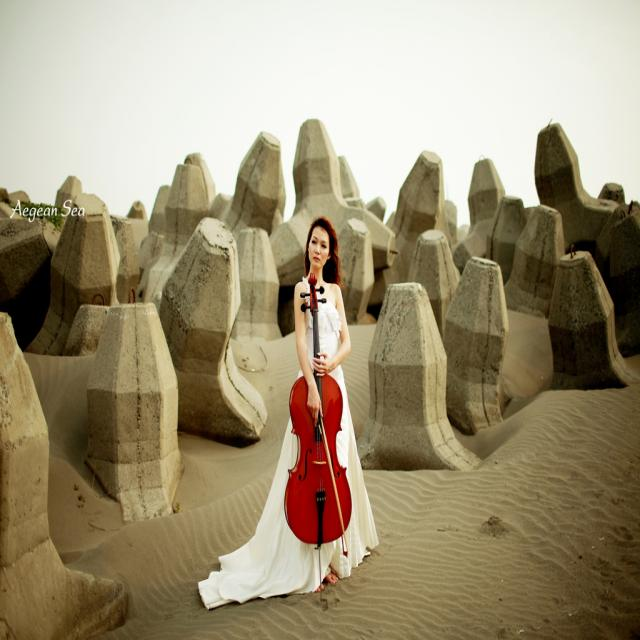cello: (282, 271, 354, 548)
